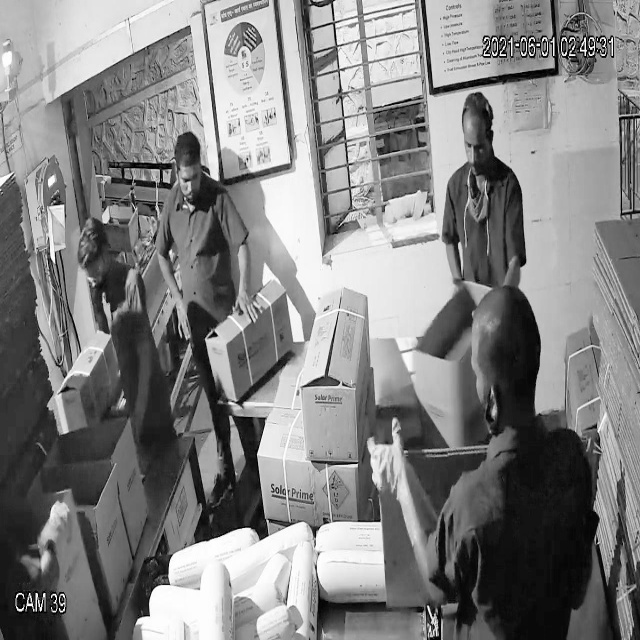Sin_gafas: (171, 162, 208, 197), (459, 128, 495, 158)
